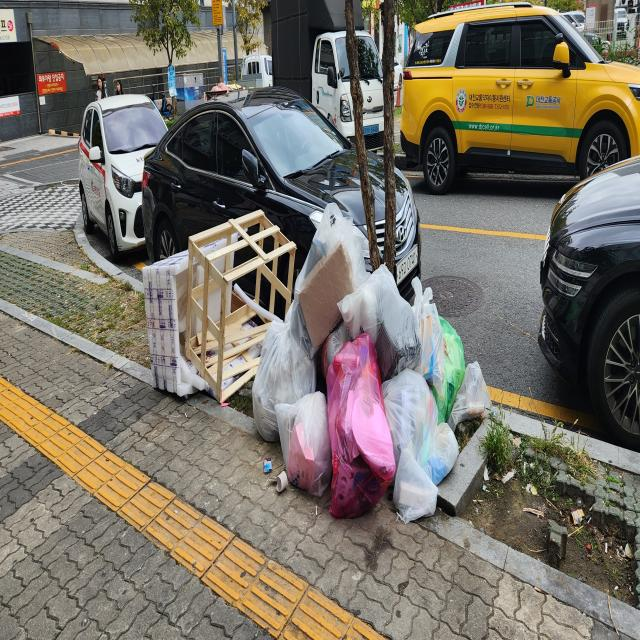General Waste: (145, 216, 498, 534)
Large Waste Items: (185, 210, 296, 406)
